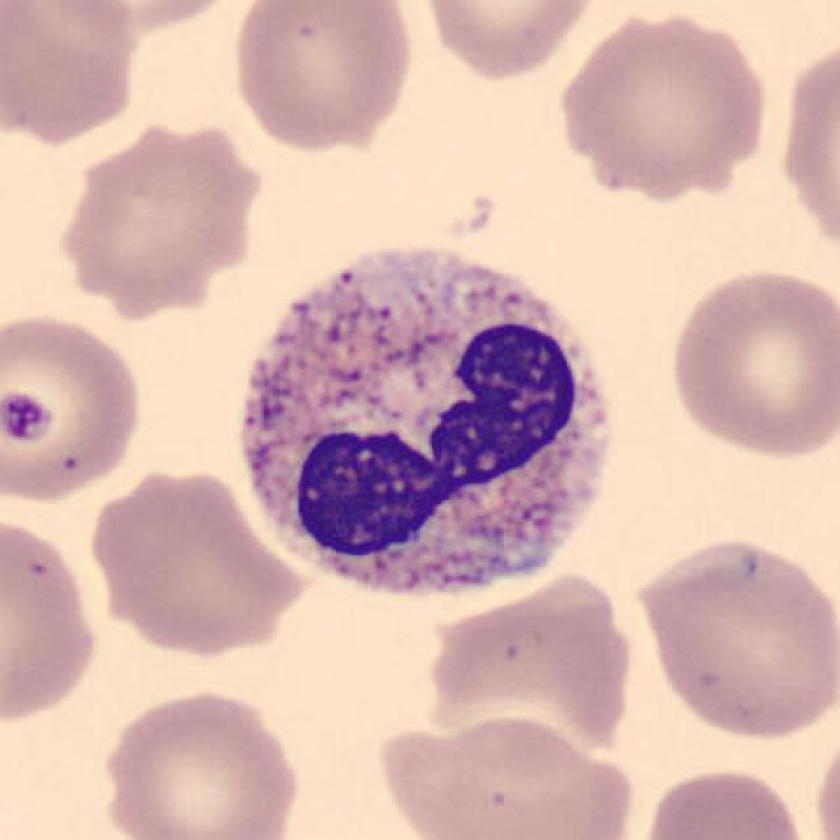neutrophil: (243, 251, 608, 596)
